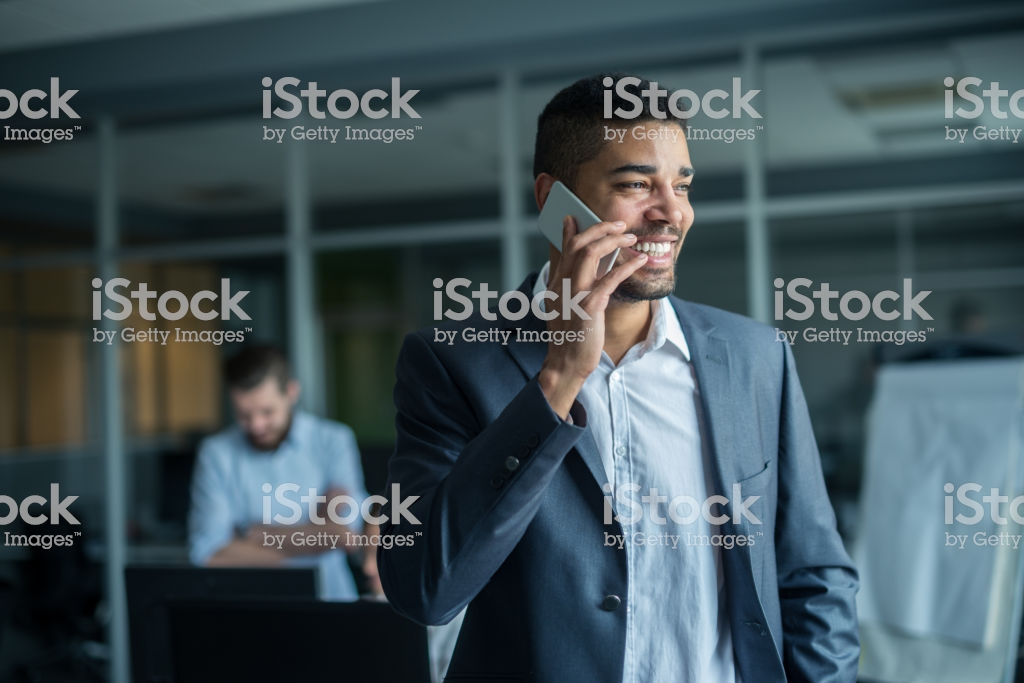phone: (540, 181, 623, 287)
talk: (531, 159, 696, 393)
